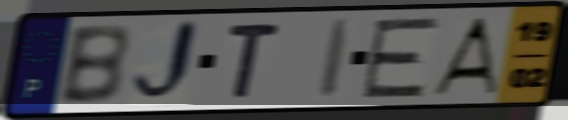A: (426, 14, 500, 96)
B: (54, 22, 133, 107)
E: (358, 14, 444, 100)
I: (315, 17, 357, 101)
J: (129, 17, 203, 109)
T: (225, 21, 284, 101)
